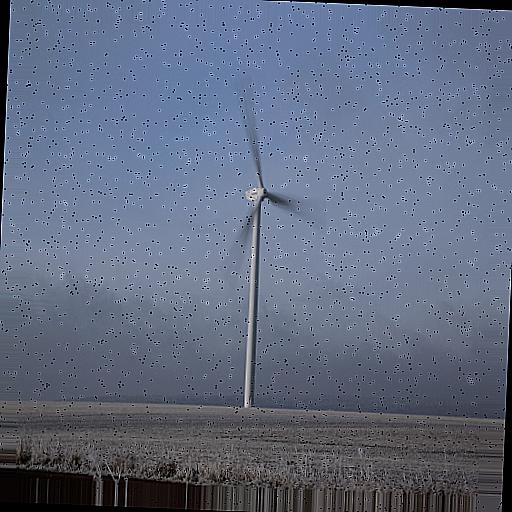wind turbine: (209, 103, 331, 406)
